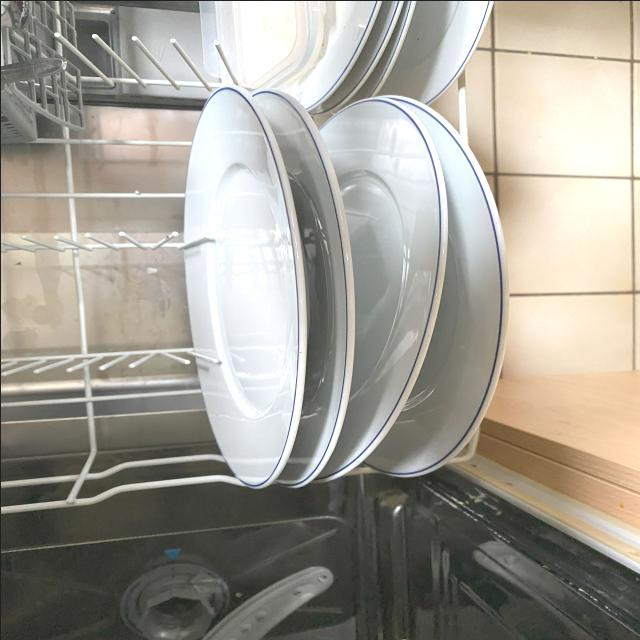empty_slot: (7, 146, 201, 485)
